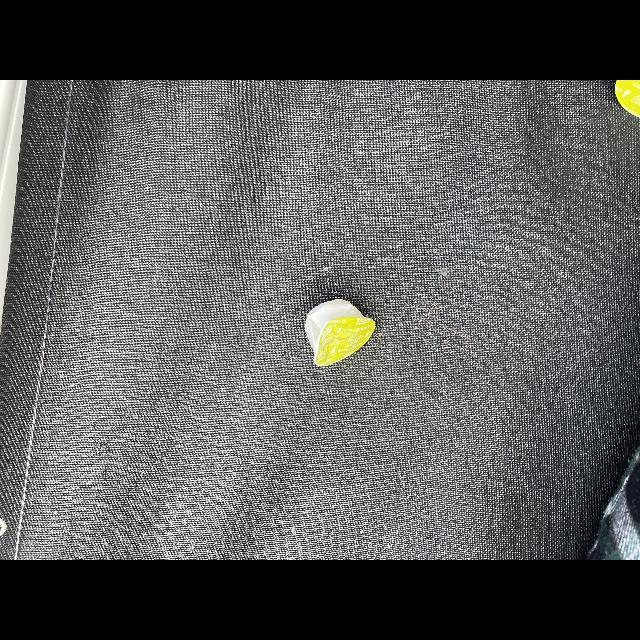damaged_capsule: (297, 294, 385, 376)
